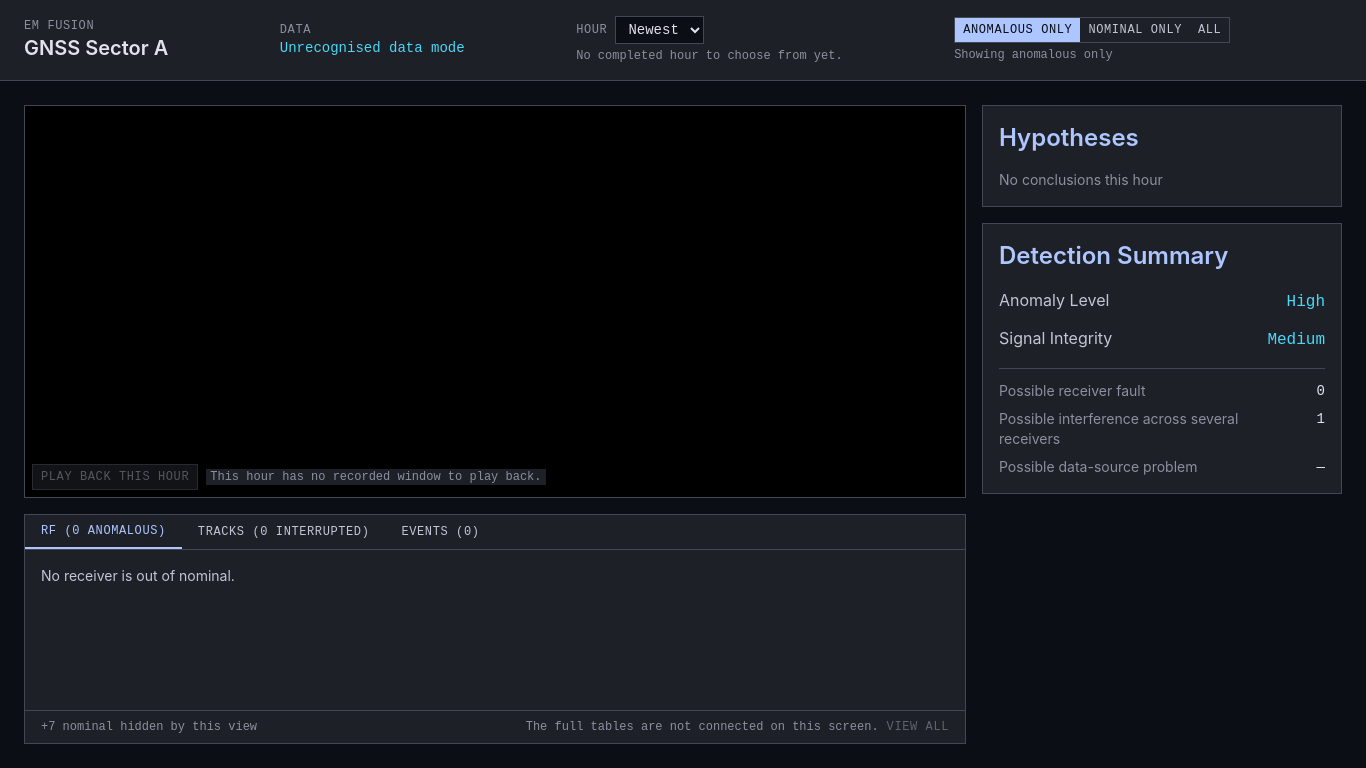
an empty tab says what it found › says no aircraft's reporting broke
The width and height of the screenshot is (1366, 768).
Step 1. Click the tab "Tracks (0 interrupted)" → [284, 532], box [182,515,385,549]
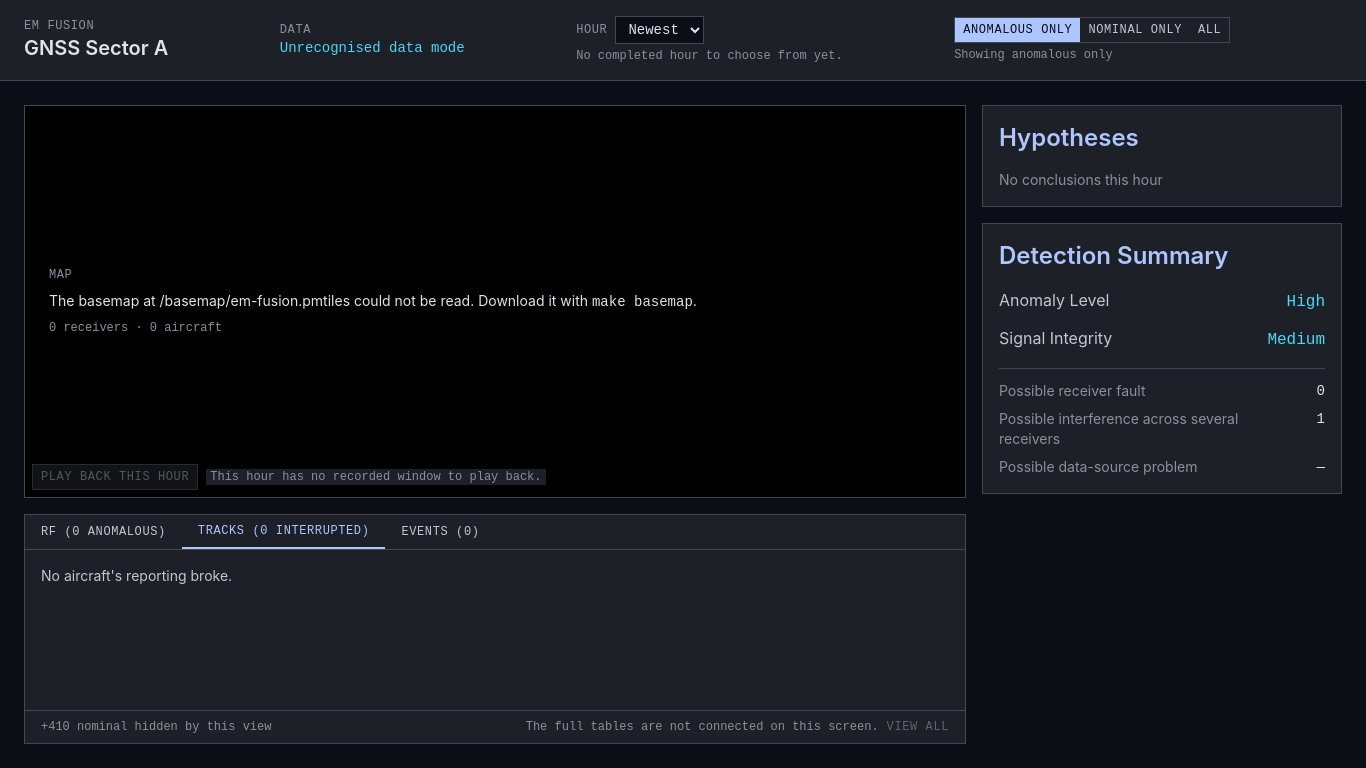
Expected: the text "No aircraft's reporting broke." is shown, [41,567,232,584]
